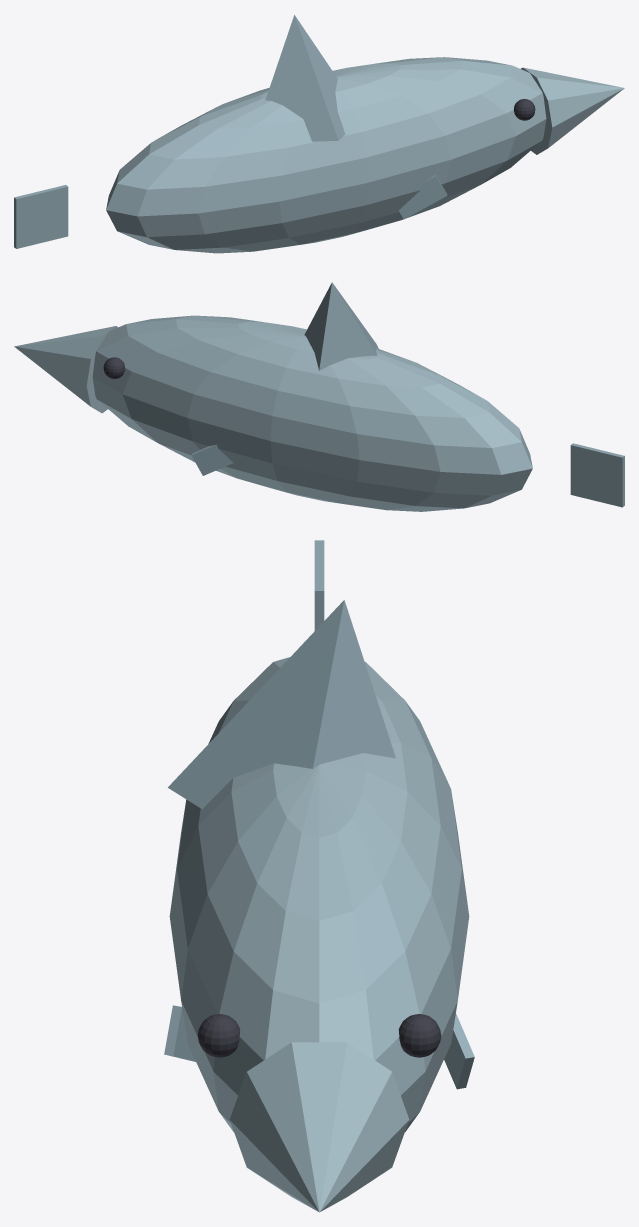
The model's file is shark.glb.
3 renders of one model, top to bottom at view 1: azimuth 30°, elevation 25°; view 2: azimuth 150°, elevation 25°; view 3: azimuth 270°, elevation 25°, orthographic. The views are drawn at different scales.
Parts seen in each view (by area): view 1: Body, Dorsal, Nose, Tail, FinR, EyeR; view 2: Body, Nose, Dorsal, Tail, FinL, EyeL; view 3: Body, Nose, Dorsal, EyeL, EyeR, FinL, FinR, Tail.
Part boxes in pixels (bbox=[...]): Body: bbox=[106, 57, 546, 253]; Dorsal: bbox=[265, 15, 344, 141]; Nose: bbox=[521, 67, 624, 154]; Tail: bbox=[14, 185, 68, 248]; FinR: bbox=[398, 174, 447, 219]; EyeR: bbox=[514, 99, 535, 120]; Body: bbox=[92, 315, 532, 511]; Nose: bbox=[14, 326, 118, 413]; Dorsal: bbox=[304, 282, 378, 370]; Tail: bbox=[570, 443, 624, 507]; FinL: bbox=[191, 444, 233, 475]; EyeL: bbox=[103, 357, 124, 378]; Body: bbox=[169, 657, 469, 1131]; Nose: bbox=[229, 1042, 409, 1212]; Dorsal: bbox=[168, 600, 395, 809]; EyeL: bbox=[398, 1014, 441, 1057]; EyeR: bbox=[197, 1014, 240, 1057]; FinL: bbox=[444, 1013, 474, 1089]; FinR: bbox=[164, 1005, 195, 1061]; Tail: bbox=[314, 540, 324, 630].
Size of the model in its own units: 1.41 by 0.4874 by 0.3111.
